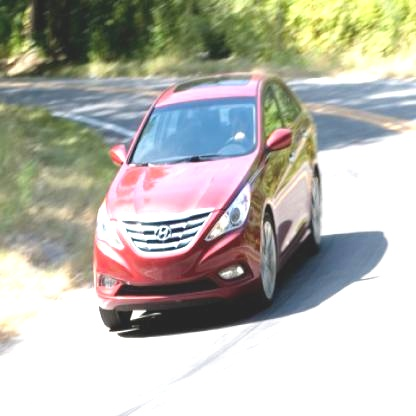Vehicle: (92, 70, 324, 336)
